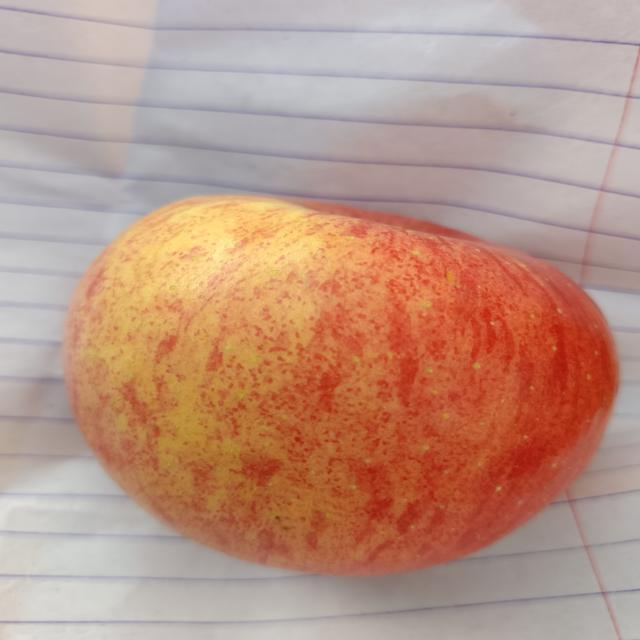Fresh Apple: (64, 182, 622, 574)
